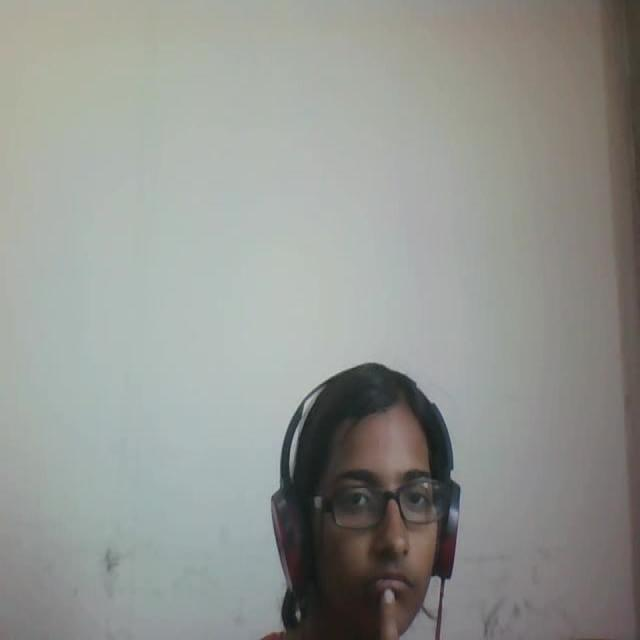Engaged: (252, 316, 465, 640)
